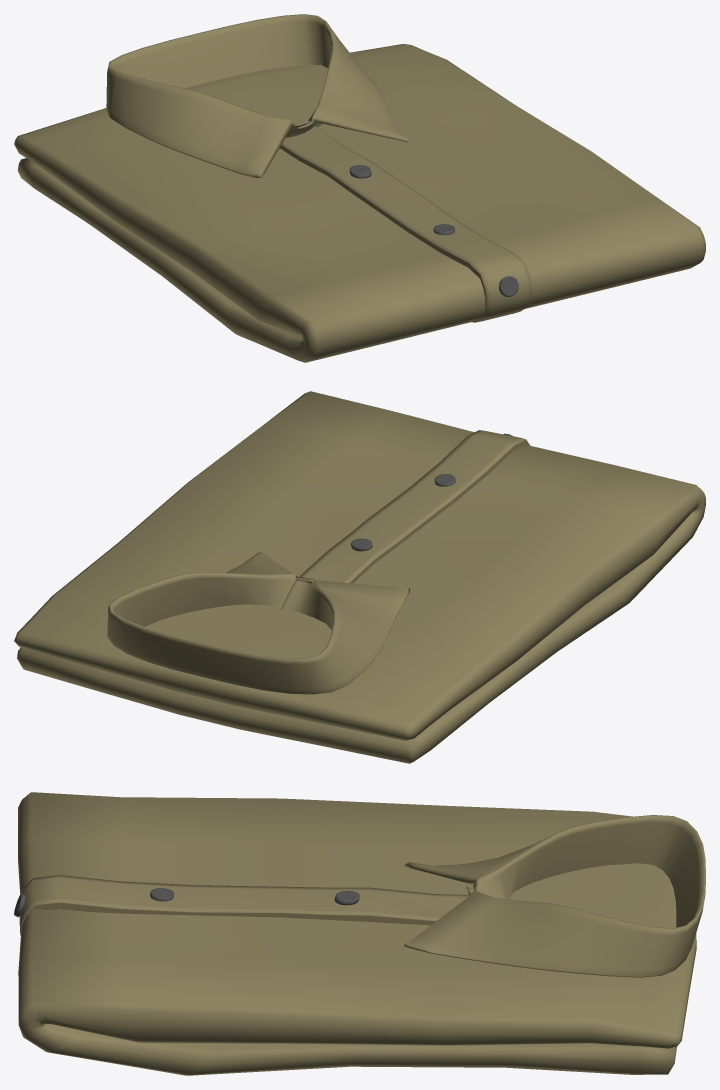
The model's file is Folded_Shirt18.fbx.
3 views of the same model, one above another, from view 1: azimuth 30°, elevation 25°; view 2: azimuth 150°, elevation 25°; view 3: azimuth 270°, elevation 25° (orthographic). The views are drawn at different scales.
Visible parts, largest first — view 1: Folded_Shirt18; view 2: Folded_Shirt18; view 3: Folded_Shirt18.
Boxes of the visible parts, bbox=[...] form: Folded_Shirt18: bbox=[14, 14, 705, 362]; Folded_Shirt18: bbox=[14, 391, 705, 763]; Folded_Shirt18: bbox=[14, 792, 705, 1075].
Bounding box in the file's own units: 24.91 × 5.51 × 33.24.
